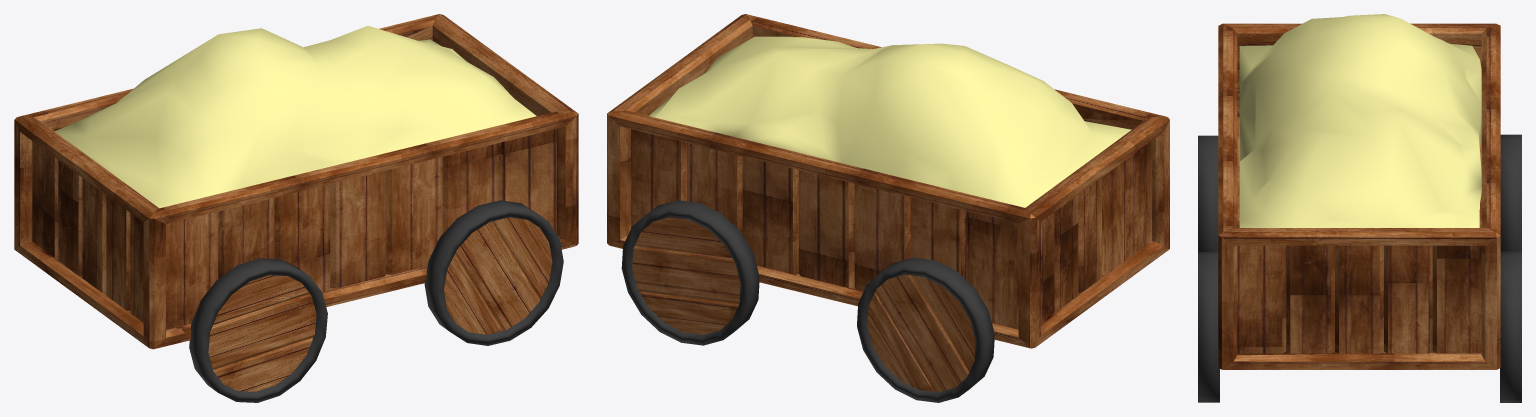
Rendered from wagon4.fbx.
The picture shows the model from 3 angles, left to right: view 1: azimuth 30°, elevation 25°; view 2: azimuth 150°, elevation 25°; view 3: azimuth 270°, elevation 25°; orthographic projection. The views are drawn at different scales.
Parts seen in each view (by area): view 1: wagon, weel2, weel1; view 2: wagon, weel3, weel4; view 3: wagon, weel4, weel1, weel3, weel2.
Boxes of the visible parts, x1,y1,x2,y2 form: wagon: (14, 14, 578, 349); weel2: (189, 258, 327, 402); weel1: (424, 200, 563, 345); wagon: (607, 14, 1169, 348); weel3: (857, 257, 994, 402); weel4: (621, 200, 759, 345); wagon: (1218, 14, 1500, 369); weel4: (1500, 251, 1521, 402); weel1: (1198, 252, 1219, 402); weel3: (1500, 134, 1521, 251); weel2: (1198, 135, 1218, 251).
Size of the model in its own units: 536 by 339 by 344.
